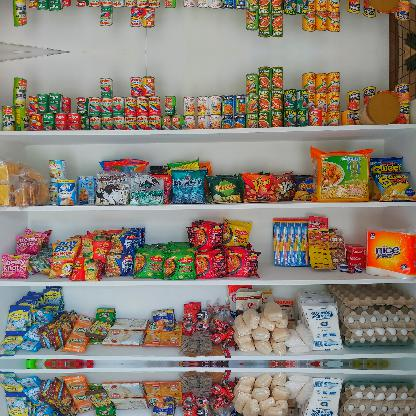Lady-s-Choice: (358, 92, 400, 124), (358, 0, 400, 13)
